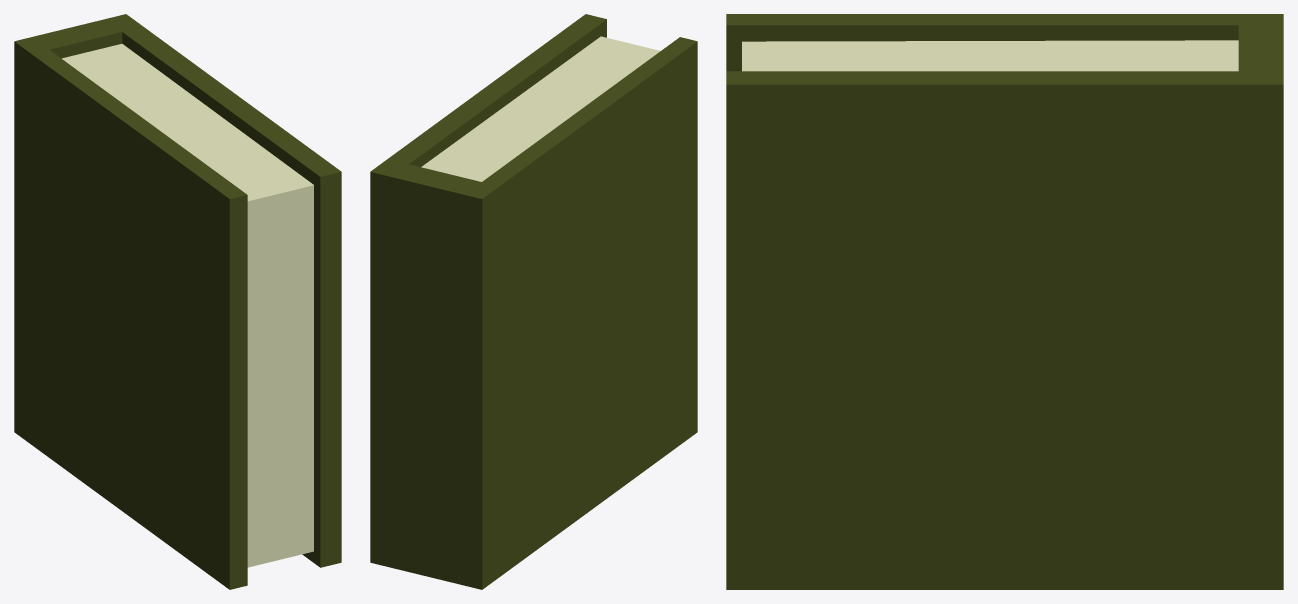
The model's file is book.fbx.
3 views of the same model, side by side, from view 1: azimuth 30°, elevation 25°; view 2: azimuth 150°, elevation 25°; view 3: azimuth 270°, elevation 25° (orthographic). The views are drawn at different scales.
Visible parts, largest first — view 1: Box001; view 2: Box001; view 3: Box001.
Boxes of the visible parts, x1=… form: Box001: x1=14, y1=14, x2=341, y2=589; Box001: x1=370, y1=14, x2=697, y2=589; Box001: x1=726, y1=14, x2=1283, y2=589.
Size of the model in its own units: 7.62 by 25.4 by 25.4.
